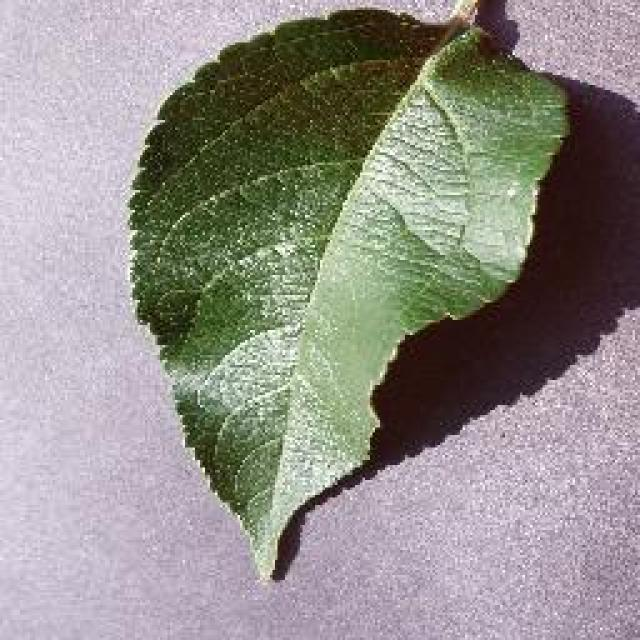apple healthy: (123, 0, 575, 580)
